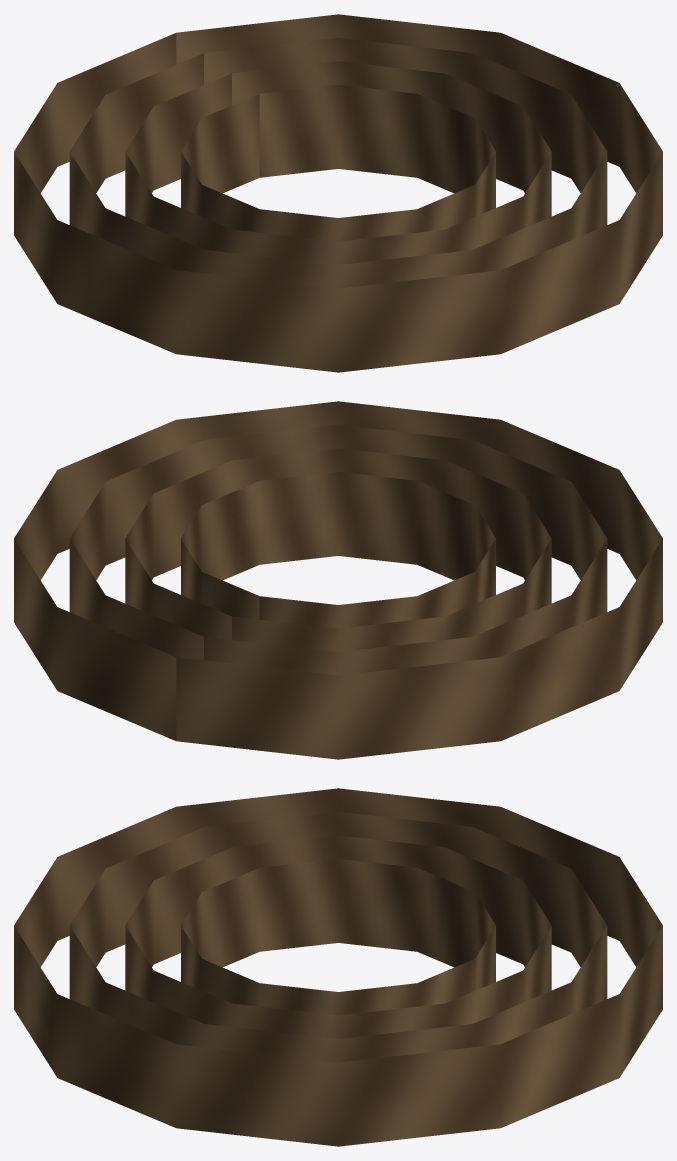
Rendered from ITEM_Rope.fbx.
3 renders of one model, top to bottom at view 1: azimuth 30°, elevation 25°; view 2: azimuth 150°, elevation 25°; view 3: azimuth 270°, elevation 25°, orthographic.
Visible parts, largest first — view 1: ITEM_Rope; view 2: ITEM_Rope; view 3: ITEM_Rope.
Part boxes in pixels (box(x1,y1,x2,y2)): ITEM_Rope: box(14, 14, 662, 372); ITEM_Rope: box(14, 401, 662, 759); ITEM_Rope: box(14, 788, 662, 1146).
Size of the model in its own units: 0.14 by 0.02 by 0.14.
